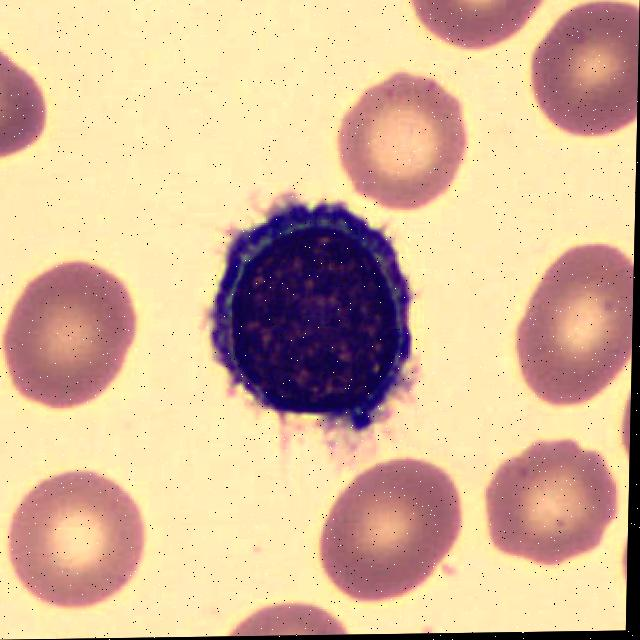lymphocyte: (208, 203, 421, 431)
rbc: (4, 470, 151, 602), (518, 248, 631, 412), (324, 464, 462, 598), (8, 263, 135, 405), (491, 434, 619, 563), (342, 77, 465, 204), (545, 2, 640, 143), (414, 0, 538, 56), (0, 40, 48, 162), (216, 603, 356, 636), (624, 365, 631, 471), (619, 532, 628, 595)
